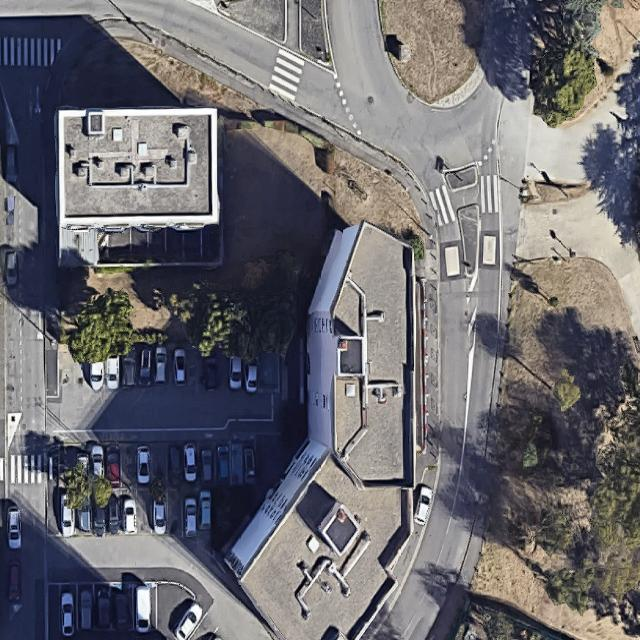immeuble: (205, 212, 504, 640), (57, 108, 218, 227)
